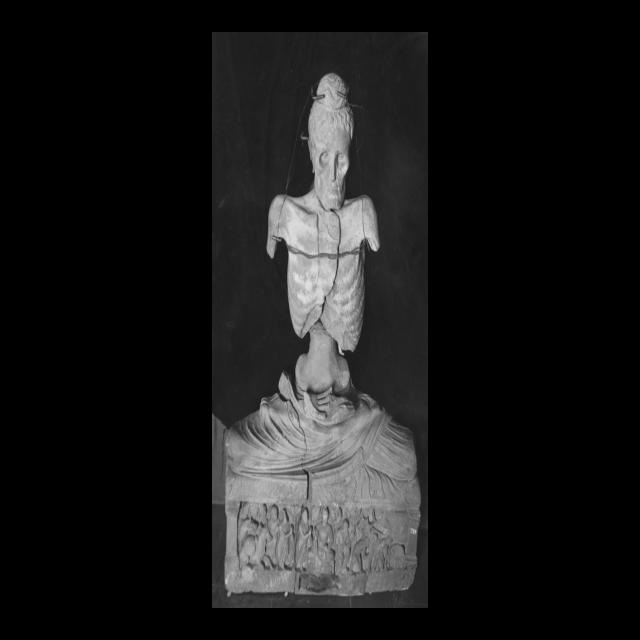buddha-sitting: (225, 73, 419, 500)
